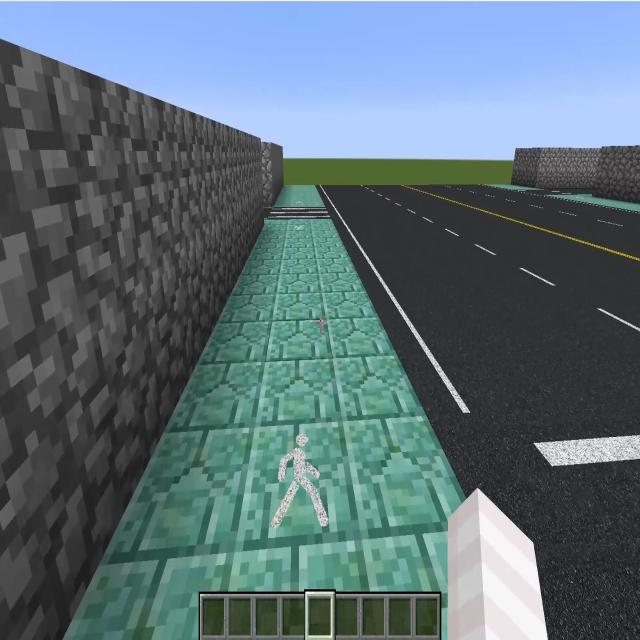crosswalk: (268, 209, 331, 219), (522, 190, 591, 194)
road: (317, 185, 640, 639)
sidewalk: (60, 220, 465, 639), (545, 195, 640, 212), (275, 187, 324, 206), (487, 185, 541, 189)
